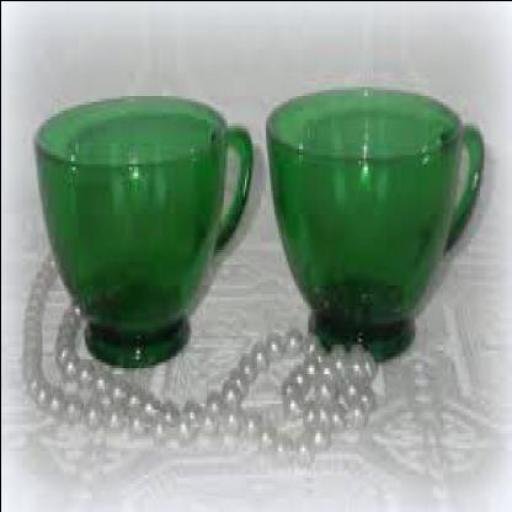glass: (266, 83, 486, 361), (35, 92, 253, 361)
